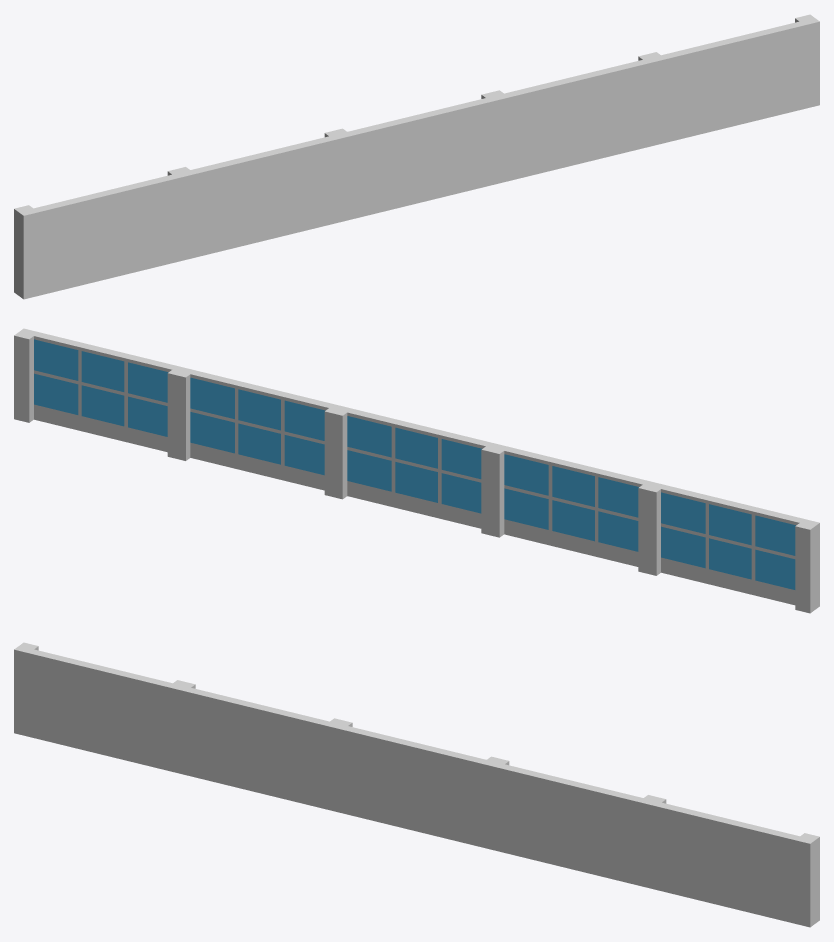
File: TUONGDAICUASO_BEBOI.fbx
3 renders of one model, top to bottom at view 1: azimuth 30°, elevation 25°; view 2: azimuth 150°, elevation 25°; view 3: azimuth 330°, elevation 25°, orthographic.
Parts seen in each view (by area): view 1: TUONGDAICUASO_BEBOI; view 2: TUONGDAICUASO_BEBOI; view 3: TUONGDAICUASO_BEBOI.
Boxes of the visible parts, x1=… form: TUONGDAICUASO_BEBOI: x1=14, y1=14, x2=819, y2=299; TUONGDAICUASO_BEBOI: x1=14, y1=328, x2=819, y2=613; TUONGDAICUASO_BEBOI: x1=14, y1=642, x2=819, y2=927.
Size of the model in its own units: 5297 by 532 by 113.
